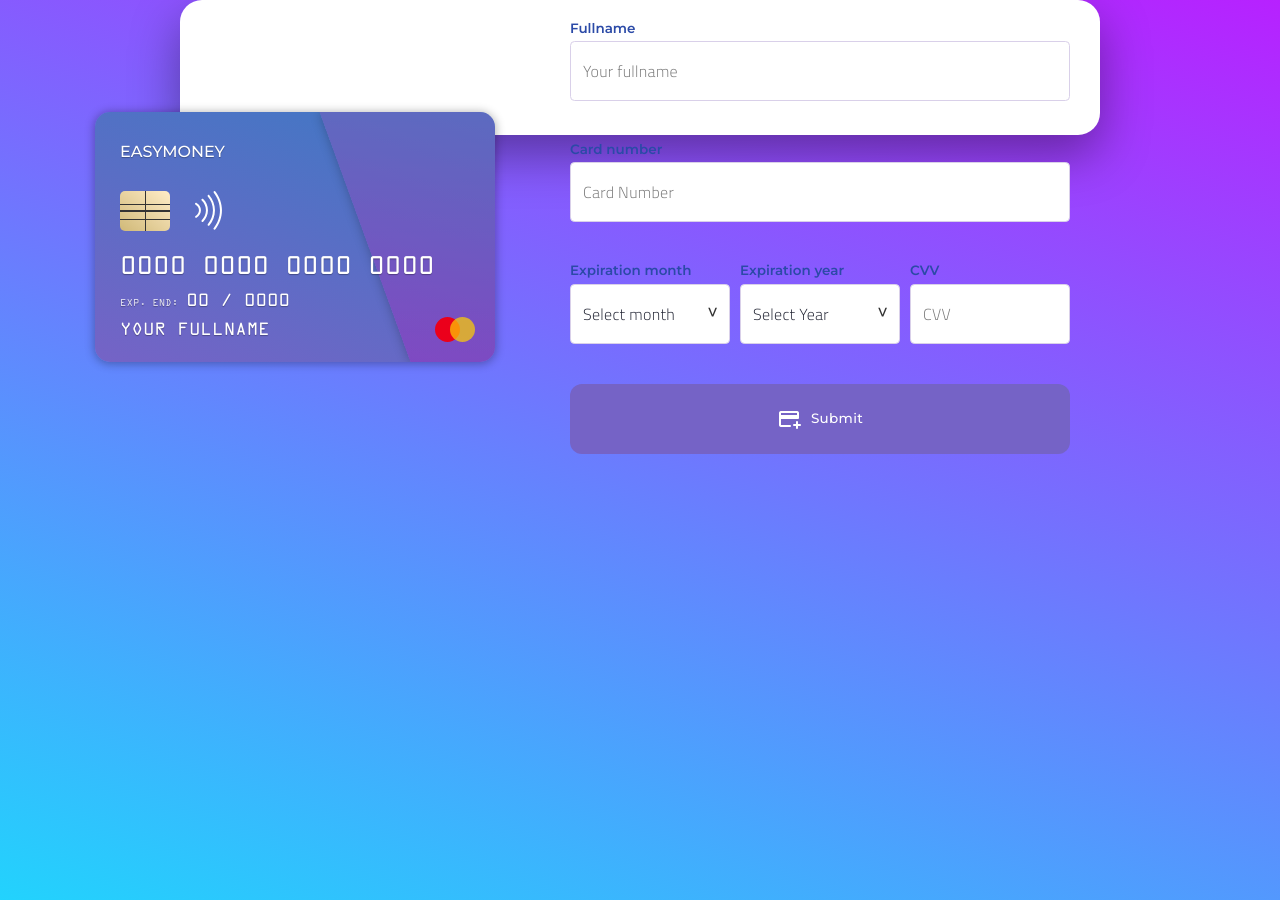
Test: Home Component › when the user submits the form without values
Expected: the text "fullName is a required field" is not shown
Expected: the text "cardNumber is a required field" is not shown
Click the button "Submit" at [820, 419], box [570,384,1070,454]
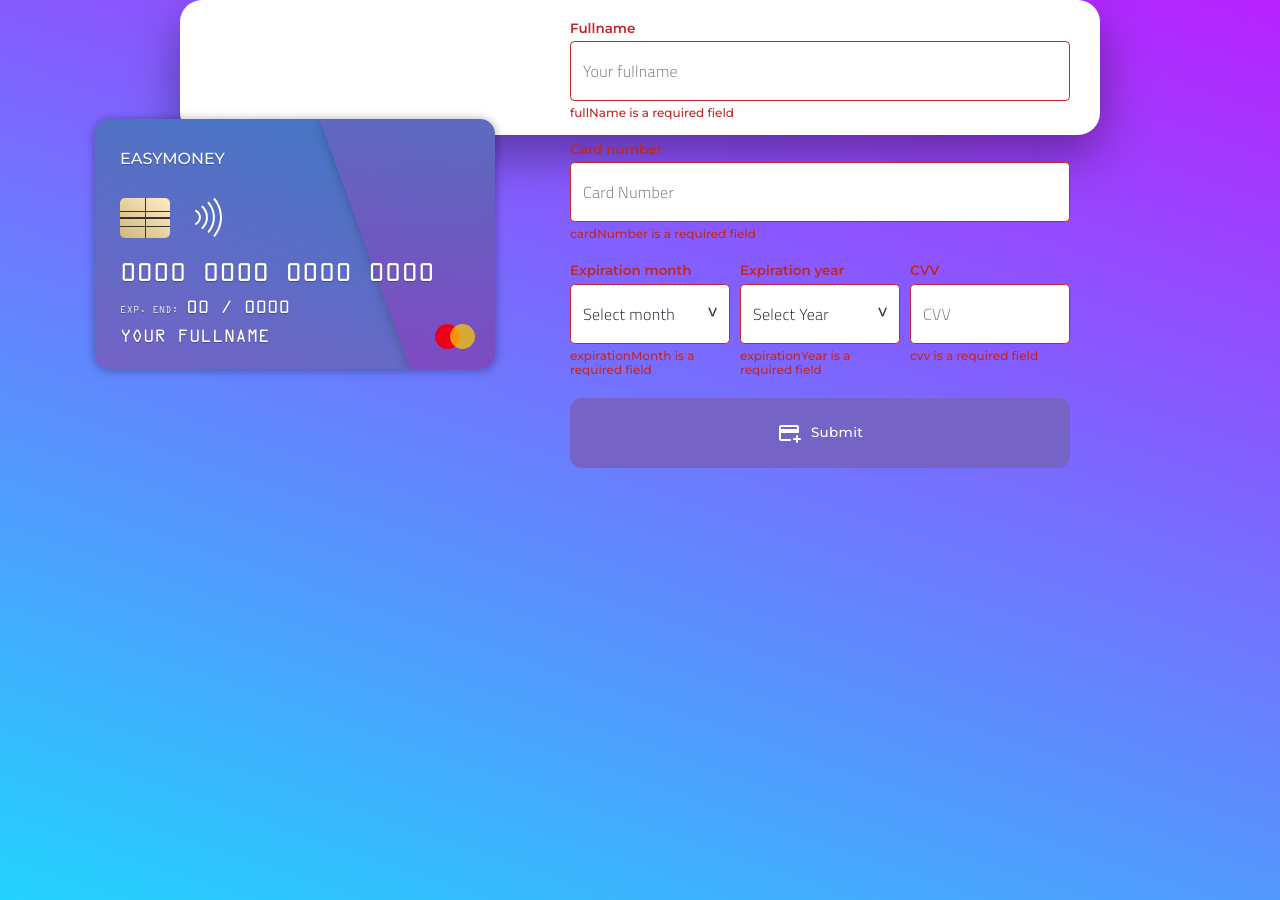
Now the text "fullName is a required field" is shown, box [570,105,734,120]
Now the text "cardNumber is a required field" is shown, box [570,226,756,241]
Now the text "expirationMonth is a required field" is shown, box [570,348,694,377]
